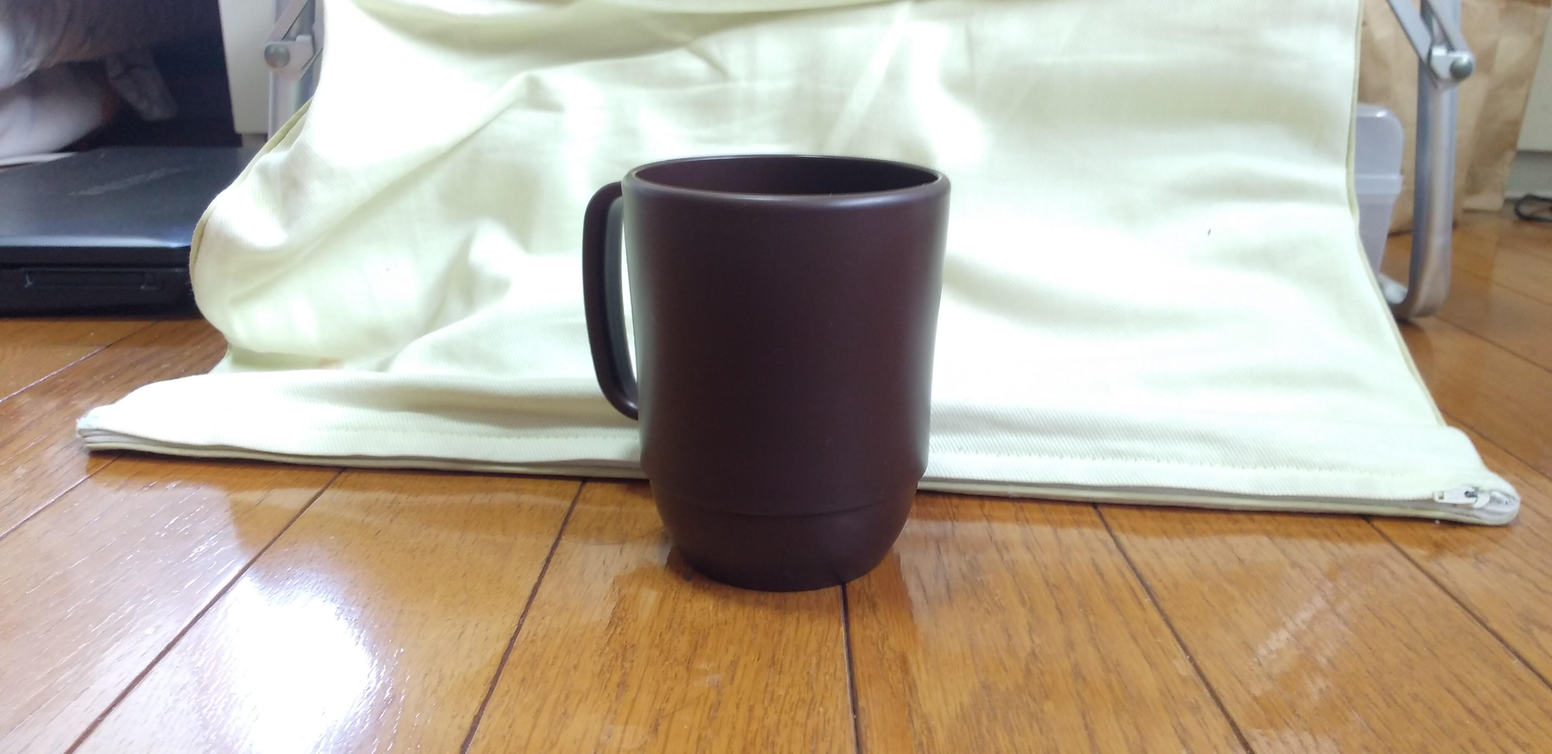mug-real100-3d100: (582, 155, 950, 591)
